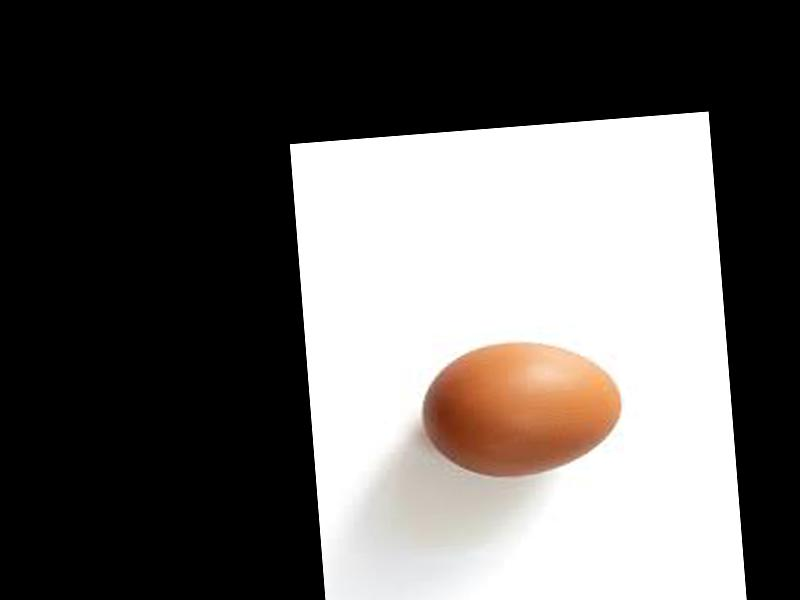Eggs: (418, 336, 627, 482)
